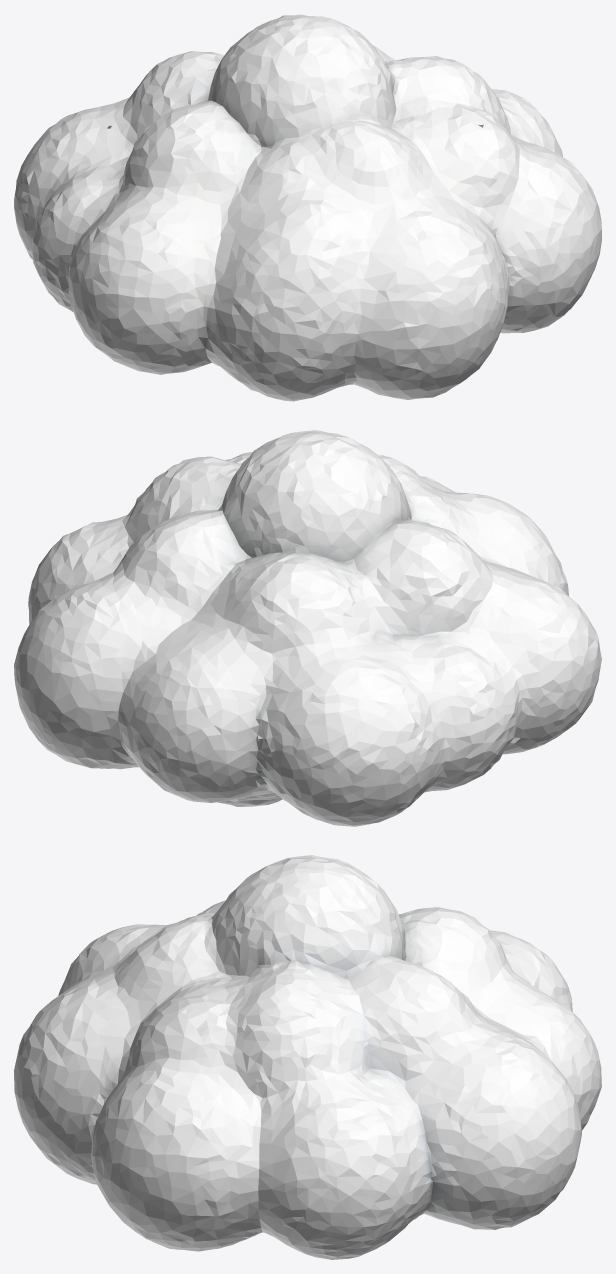
The model's file is Cloud.fbx.
3 views of the same model, one above another, from view 1: azimuth 30°, elevation 25°; view 2: azimuth 150°, elevation 25°; view 3: azimuth 270°, elevation 25° (orthographic). The views are drawn at different scales.
Visible parts, largest first — view 1: temp; view 2: temp; view 3: temp.
Boxes of the visible parts, box(x1,y1,x2,y2) form: temp: box(14, 14, 601, 401); temp: box(14, 430, 601, 826); temp: box(14, 855, 601, 1259).
Size of the model in its own units: 200 by 122 by 196.
Materials: 1 (1 with a texture image).
